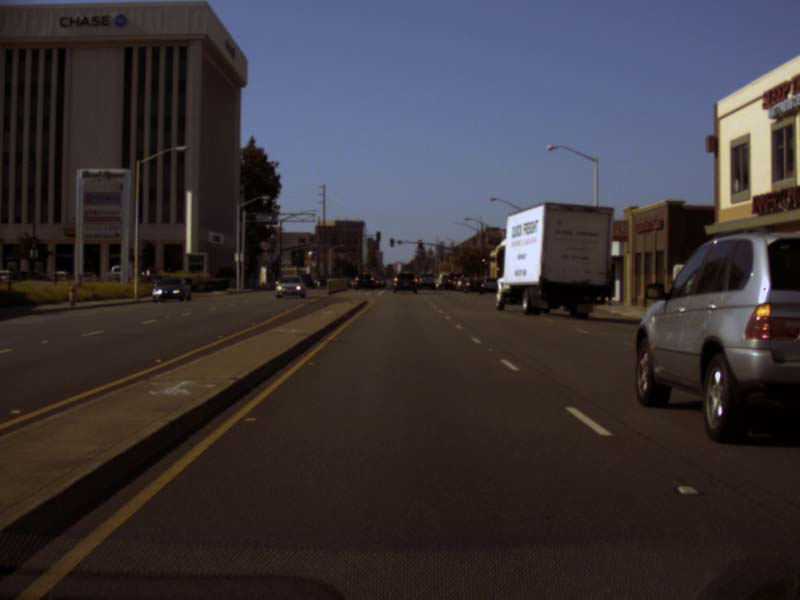Red: (481, 257, 486, 267), (418, 239, 421, 249)
